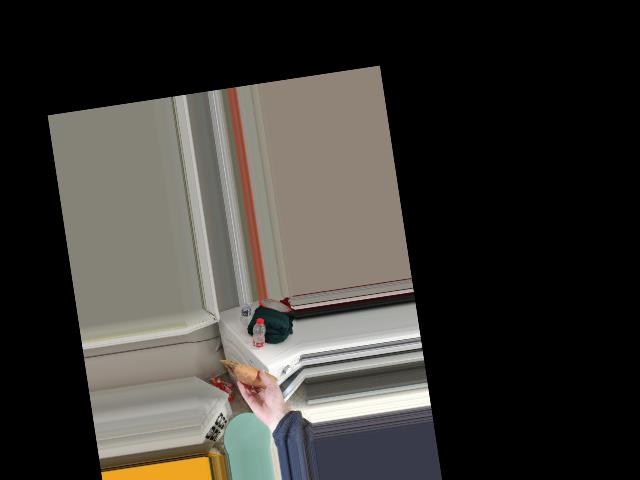sweet_potato: (236, 361, 273, 394)
